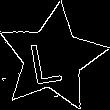L_N: (33, 30, 72, 86)
